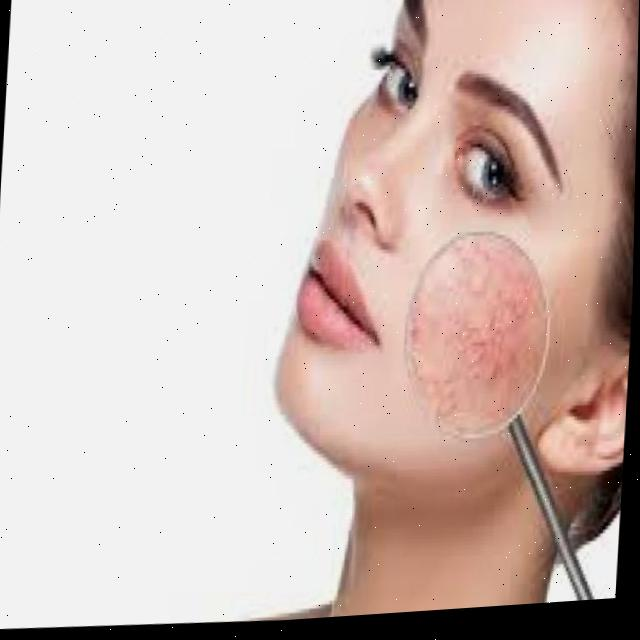Rosacea: (408, 231, 555, 430)
